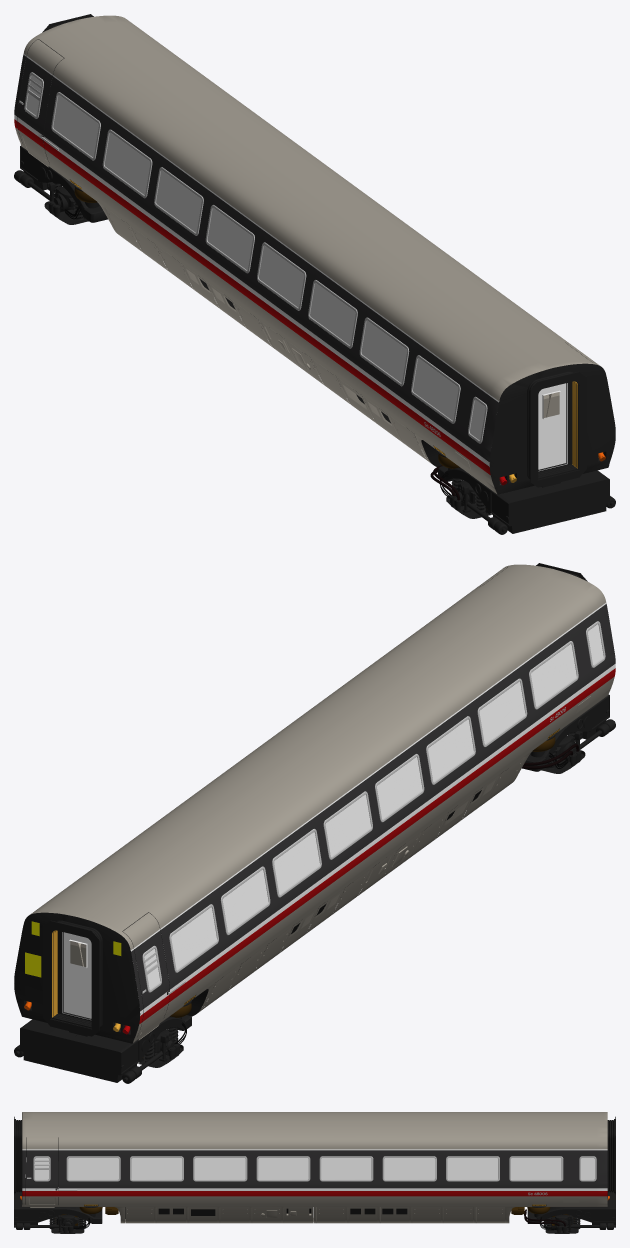
Rendered from apt-std-carriage.glb.
3 renders of one model, top to bottom at view 1: azimuth 30°, elevation 25°; view 2: azimuth 150°, elevation 25°; view 3: azimuth 270°, elevation 25°, orthographic. The views are drawn at different scales.
Visible parts, largest first — view 1: Main Body, Bogie, Botton Panels, Rear Door Surround, Rear Door; view 2: Main Body, Bogie, Botton Panels, Rear Door Surround, Rear Door; view 3: Main Body, Botton Panels, Bogie, Rear Door Surround, Wires and Pipes.001, Undercarriage.002, Step.001.
Boxes of the visible parts, left/top/right/bottom form: Main Body: left=14, top=15, right=615, bottom=494; Bogie: left=14, top=146, right=615, bottom=534; Botton Panels: left=105, top=208, right=428, bottom=461; Rear Door Surround: left=42, top=14, right=586, bottom=487; Rear Door: left=538, top=383, right=566, bottom=470; Main Body: left=14, top=564, right=615, bottom=1043; Bogie: left=14, top=694, right=615, bottom=1083; Botton Panels: left=201, top=757, right=523, bottom=1010; Rear Door Surround: left=43, top=563, right=587, bottom=1036; Rear Door: left=63, top=932, right=91, bottom=1019; Main Body: left=22, top=1112, right=607, bottom=1223; Botton Panels: left=125, top=1207, right=504, bottom=1223; Bogie: left=14, top=1191, right=615, bottom=1233; Rear Door Surround: left=14, top=1116, right=615, bottom=1194; Wires and Pipes.001: left=524, top=1209, right=565, bottom=1230; Undercarriage.002: left=105, top=1207, right=524, bottom=1214; Step.001: left=30, top=1198, right=54, bottom=1207.
Bounding box in the file's own units: 3.16 × 3.82 × 20.51.
Materials: 32 (2 with a texture image).
